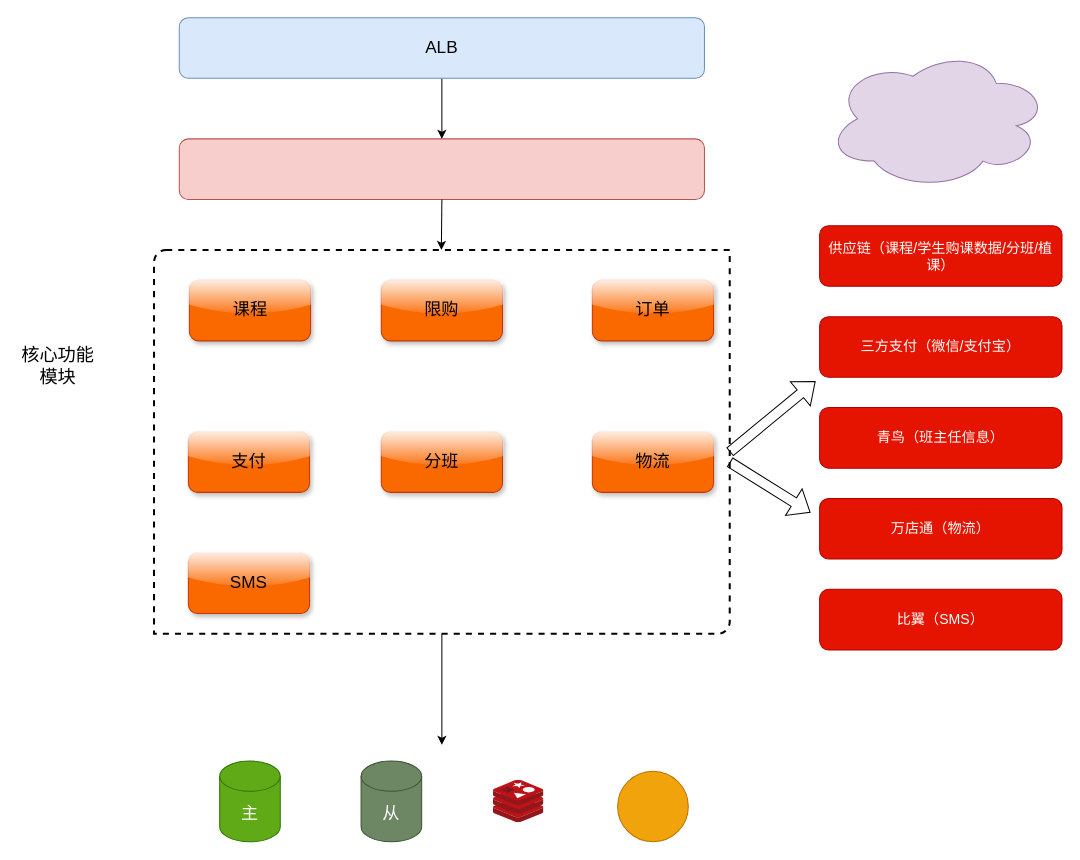
Some shapes in this 1080 by 860 pixel diagram are drawn without their labels. Here are the shapes that lost their labels. From the top down, the centre of each, then its label:
At point (940, 118): "网关/业务SLS、告警".
At point (441, 168): "Http API".
At point (652, 806): "MQ".
